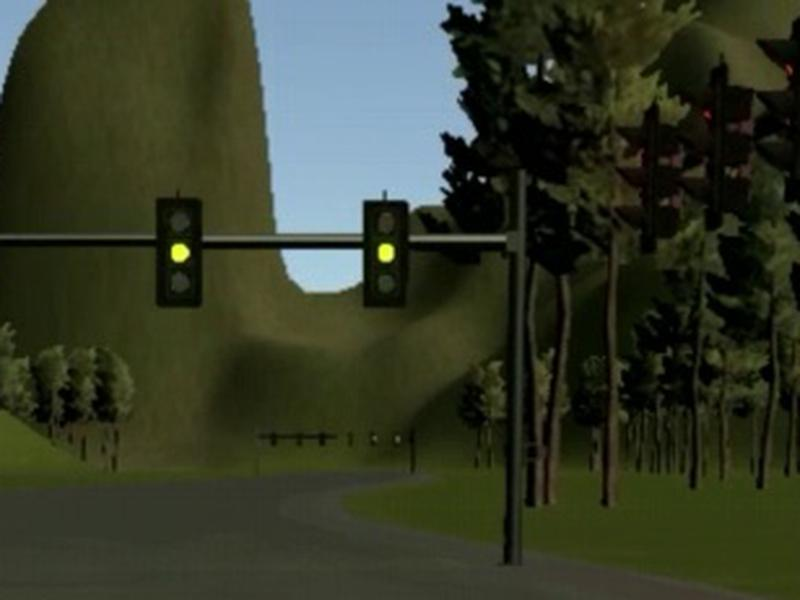Yellow: (155, 196, 202, 306), (362, 200, 409, 307)
